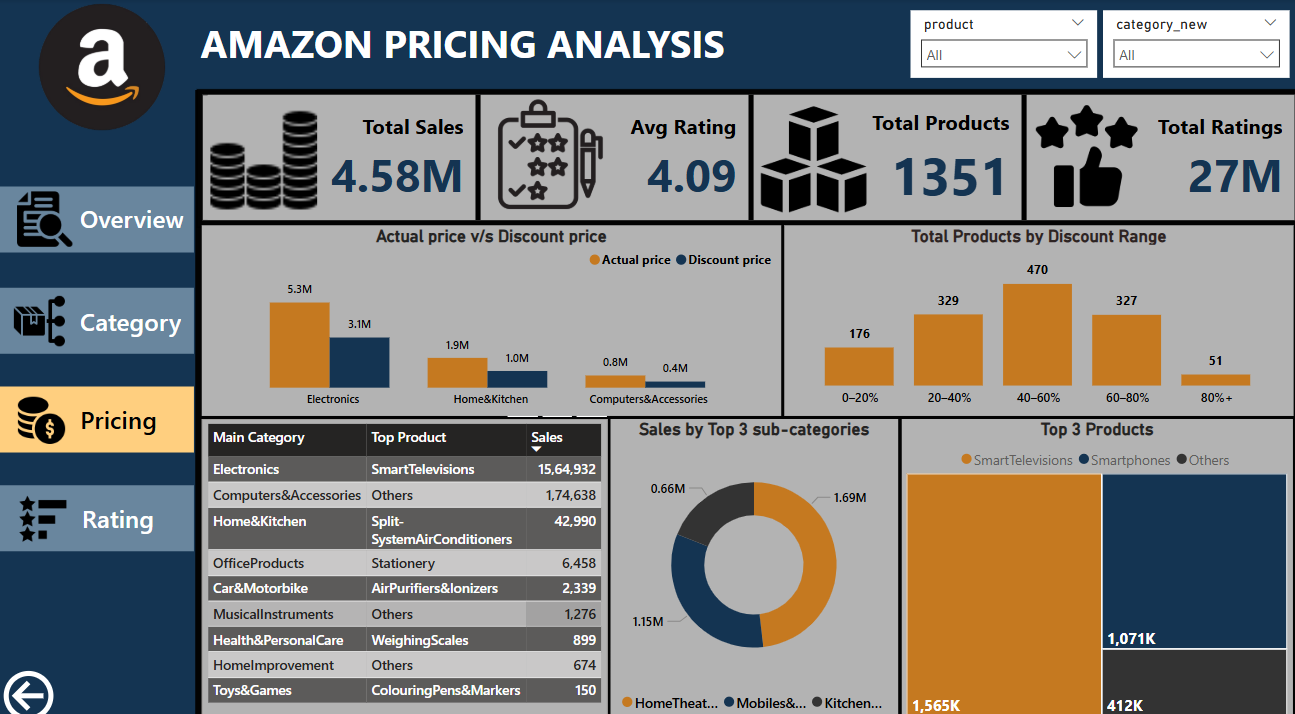

The dashboard page shown, as its layout file describes it:
{"tool":"powerbi","page":{"name":"Pricing_analysis","canvas":[1280,720],"ordinal":1},"visuals":[{"type":"group","id":"g1","title":"Group 3","box":[0,0,1280.3,719],"z":0},{"type":"group","id":"g2","title":"Group 2","box":[0,0,1280.3,719],"z":0,"group":"g1"},{"type":"shape","box":[4.3,0,1276,89.3],"z":0,"group":"g5"},{"type":"group","id":"g3","title":"Group 4","box":[195.3,88.5,1079,135.6],"z":0,"group":"g4"},{"type":"image","box":[2.5,0,198.8,133.7],"z":1000},{"type":"textbox","box":[193.3,13,702.6,73.6],"z":1000,"group":"g5"},{"type":"image","box":[703.8,101.5,194.6,114],"z":1000,"group":"g4"},{"type":"shape","box":[0,184.1,193,65],"z":1000,"group":"g1"},{"type":"shape","box":[62,23.5,83.7,72.2],"z":2000,"group":"g1"},{"type":"group","id":"g4","title":"Group 5","box":[195.3,82.7,1079,148.6],"z":2000},{"type":"image","box":[204.1,82.7,115,148.6],"z":2000,"group":"g4"},{"type":"cardVisual","fields":{"Data":["ketan amazon_cleaned_data.Total Sale","ketan amazon_cleaned_data.Avg_rating","ketan amazon_cleaned_data.Total_products","ketan amazon_cleaned_data.Total_ratings"]},"box":[195.3,88.5,1079,135.6],"z":2000,"group":"g3"},{"type":"image","box":[960.3,100,218.2,109.6],"z":3000,"group":"g4"},{"type":"image","box":[12.3,184.1,67.5,63.8],"z":3000,"group":"g1"},{"type":"tableEx","fields":{"Values":["ketan amazon_cleaned_data.broad_category","ketan amazon_cleaned_data.Top Product","ketan amazon_cleaned_data.Top Product Sales"]},"box":[200.5,412.6,398.2,297],"z":3000},{"type":"group","id":"g5","title":"Group 1","box":[4.3,0,1276,89.3],"z":4000,"group":"g2"},{"type":"image","box":[431.1,92.8,222.6,121.2],"z":4000,"group":"g4"},{"type":"clusteredColumnChart","title":"Actual price v/s Discount price","fields":{"Category":["ketan amazon_cleaned_data.broad_category"],"Y":["ketan amazon_cleaned_data.Actual price","ketan amazon_cleaned_data.Discount price"]},"box":[200.5,222.2,568.4,187.6],"z":4000},{"type":"treemap","title":"Top 3 Products","fields":{"Values":["ketan amazon_cleaned_data.Total Sales"],"Group":["ketan amazon_cleaned_data.product"]},"box":[887.3,412.6,383.8,297.2],"z":5000},{"type":"shape","box":[0,0,193.9,719],"z":5008,"group":"g2"},{"type":"columnChart","fields":{"Category":["ketan amazon_cleaned_data.Discount Range"],"Y":["ketan amazon_cleaned_data.Total Products"]},"box":[771.9,222.2,500,187.6],"z":6000},{"type":"donutChart","title":"Sales by Top 3 sub-categories","fields":{"Y":["ketan amazon_cleaned_data.Total Sales"],"Category":["ketan amazon_cleaned_data.category_new"]},"box":[601.6,412.6,282,297],"z":7000},{"type":"slicer","fields":{"Values":["ketan amazon_cleaned_data.category_new"]},"box":[1085,11.5,183.2,66.4],"z":8000},{"type":"slicer","fields":{"Values":["ketan amazon_cleaned_data.product"]},"box":[896,11.5,183.2,66.4],"z":9000},{"type":"actionButton","box":[6.1,182.5,180.4,65],"z":10000,"group":"g6"},{"type":"shape","box":[0,283.4,193,65],"z":10000},{"type":"shape","box":[0.2,476.8,193,65],"z":11000},{"type":"shape","box":[201.4,94.6,14.7,122],"z":11502,"group":"g3"},{"type":"actionButton","box":[8.6,284.3,175.5,62.6],"z":12000,"group":"g6"},{"type":"shape","box":[0,380.4,193,65],"z":12000},{"type":"group","id":"g6","title":"Group 6","box":[6.1,182.5,190.2,358.3],"z":13000},{"type":"image","box":[7.4,279.8,66.3,72.4],"z":14000},{"type":"actionButton","box":[40.5,381.3,155.8,62.6],"z":14000,"group":"g6"},{"type":"image","box":[16,477.3,56.4,65],"z":15000},{"type":"image","box":[14.7,381.6,56.4,63.8],"z":16000},{"type":"actionButton","box":[45.4,478.2,144.8,62.6],"z":16000,"group":"g6"},{"type":"actionButton","box":[0,654,81,60.1],"z":17000}]}

Visuals, with their boxes in screenshot pixels (x1, y1, x2, y2), scaled from the page's 1280x720 canvas onto the 1295x714 screenshot:
"Group 3" group: [0,0,1294,713]
"Group 2" group: [0,0,1294,713]
shape: [4,0,1294,89]
"Group 4" group: [198,88,1289,222]
image: [3,0,204,133]
textbox: [196,13,906,86]
image: [712,101,909,214]
shape: [0,183,195,247]
shape: [63,23,147,95]
"Group 5" group: [198,82,1289,229]
image: [206,82,323,229]
cardVisual - ketan amazon_cleaned_data.Total Sale x ketan amazon_cleaned_data.Avg_rating: [198,88,1289,222]
image: [972,99,1192,208]
image: [12,183,81,246]
tableEx - ketan amazon_cleaned_data.broad_category x ketan amazon_cleaned_data.Top Product: [203,409,606,704]
"Group 1" group: [4,0,1294,89]
image: [436,92,661,212]
"Actual price v/s Discount price" clusteredColumnChart: [203,220,778,406]
"Top 3 Products" treemap: [898,409,1286,704]
shape: [0,0,196,713]
columnChart - ketan amazon_cleaned_data.Discount Range x ketan amazon_cleaned_data.Total Products: [781,220,1287,406]
"Sales by Top 3 sub-categories" donutChart: [609,409,894,704]
slicer - ketan amazon_cleaned_data.category_new: [1098,11,1283,77]
slicer - ketan amazon_cleaned_data.product: [906,11,1092,77]
actionButton: [6,181,189,245]
shape: [0,281,195,345]
shape: [0,473,195,537]
shape: [204,94,219,215]
actionButton: [9,282,186,344]
shape: [0,377,195,442]
"Group 6" group: [6,181,199,536]
image: [7,277,75,349]
actionButton: [41,378,199,440]
image: [16,473,73,538]
image: [15,378,72,442]
actionButton: [46,474,192,536]
actionButton: [0,649,82,708]
